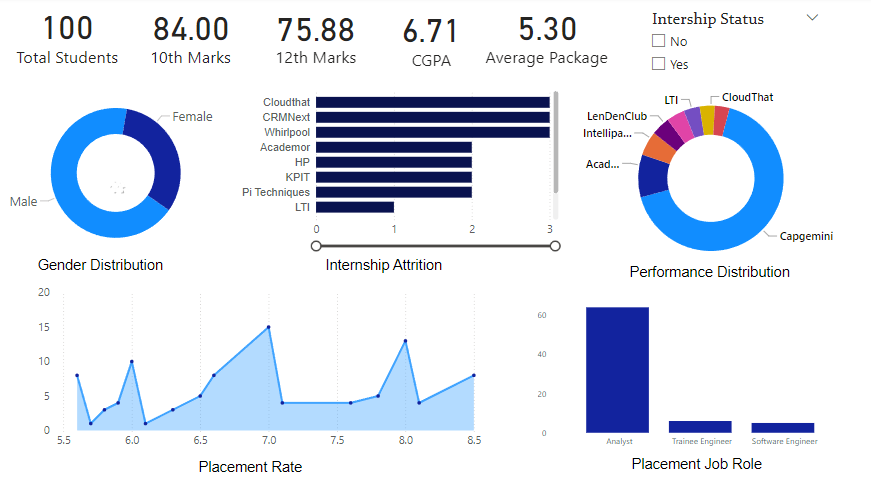

The page's visual inventory and layout, read from the dashboard file:
{"tool":"powerbi","page":{"name":"Page 2","canvas":[1280,720],"ordinal":1},"visuals":[{"type":"card","fields":{"Values":["Avg(cleaned_dataset_2019_format.10th )"]},"box":[189.5,4.9,182.1,72],"z":0,"group":"g1"},{"type":"donutChart","fields":{"Category":["cleaned_dataset_2019_format.Gender"],"Y":["Sum(cleaned_dataset_2019_format.Package_Selected(In LPA ))"]},"box":[4.5,113.4,332.8,286.6],"z":1000},{"type":"card","fields":{"Values":["Avg(cleaned_dataset_2019_format.12th)"]},"box":[371.6,5.9,183.6,72],"z":2000,"group":"g1"},{"type":"donutChart","fields":{"Category":["cleaned_dataset_2019_format.Company_Name","cleaned_dataset_2019_format.Industry"],"Y":["Sum(cleaned_dataset_2019_format.Package_Selected(In LPA ))"]},"box":[846.7,110,388.9,311.1],"z":2000},{"type":"areaChart","fields":{"Category":["cleaned_dataset_2019_format.CGPA","cleaned_dataset_2019_format.Industry"],"Y":["CountNonNull(cleaned_dataset_2019_format.Job_Role)"]},"box":[50.7,414.9,659.7,253.7],"z":3000},{"type":"card","fields":{"Values":["Avg(cleaned_dataset_2019_format.CGPA)"]},"box":[540,7.4,184.4,71.4],"z":4000,"group":"g1"},{"type":"image","box":[155.2,255.2,40.3,46.3],"z":5000},{"type":"slicer","fields":{"Values":["cleaned_dataset_2019_format.Intership_Status"]},"box":[942.9,11.4,270,110],"z":6000},{"type":"clusteredColumnChart","fields":{"Category":["cleaned_dataset_2019_format.Job_Role"],"Y":["CountNonNull(cleaned_dataset_2019_format.Company_Selected)"]},"box":[783.6,422.4,468.7,244.8],"z":7000},{"type":"textbox","box":[920.9,667.2,240.3,47.8],"z":8000},{"type":"card","fields":{"Values":["CountNonNull(cleaned_dataset_2019_format.Student_Roll_No)"]},"box":[4.5,0,187.4,77.6],"z":9000,"group":"g1"},{"type":"textbox","box":[473.1,376.1,219.4,38.8],"z":9000},{"type":"textbox","box":[286.6,671.6,198.5,47.8],"z":10000},{"type":"barChart","fields":{"Category":["cleaned_dataset_2019_format.Internship_Company"],"Y":["CountNonNull(cleaned_dataset_2019_format.Student_Roll_No)"]},"box":[341.4,124.3,482.9,251.4],"z":10500},{"type":"textbox","box":[917.1,385.7,282.9,47.1],"z":11000},{"type":"group","id":"g1","title":"Group 1","box":[2.3,0,899.2,116.4],"z":12000},{"type":"card","fields":{"Values":["Avg(cleaned_dataset_2019_format.Package_Selected(In LPA ))"]},"box":[702.3,4.9,199.2,72.6],"z":13000,"group":"g1"},{"type":"textbox","box":[50.7,376.1,240.3,47.8],"z":13000},{"type":"textbox","box":[2.3,65.7,194,50.7],"z":14000,"group":"g1"},{"type":"textbox","box":[195.9,65.7,168.7,47.8],"z":15000,"group":"g1"},{"type":"textbox","box":[380.7,66.3,163.8,43.8],"z":16000,"group":"g1"},{"type":"textbox","box":[550.3,70,165.2,46.3],"z":17000,"group":"g1"},{"type":"textbox","box":[701.9,65.7,198.5,50.7],"z":18000,"group":"g1"}]}

Visuals, with their boxes in screenshot pixels (x1, y1, x2, y2), scaled from the page's 1280x720 canvas onto the 871x488 screenshot:
card - Avg(cleaned_dataset_2019_format.10th ): Rect(129, 3, 253, 52)
donutChart - cleaned_dataset_2019_format.Gender x Sum(cleaned_dataset_2019_format.Package_Selected(In LPA )): Rect(3, 77, 230, 271)
card - Avg(cleaned_dataset_2019_format.12th): Rect(253, 4, 378, 53)
donutChart - cleaned_dataset_2019_format.Company_Name x cleaned_dataset_2019_format.Industry: Rect(576, 75, 841, 285)
areaChart - cleaned_dataset_2019_format.CGPA x cleaned_dataset_2019_format.Industry: Rect(34, 281, 483, 453)
card - Avg(cleaned_dataset_2019_format.CGPA): Rect(367, 5, 493, 53)
image: Rect(106, 173, 133, 204)
slicer - cleaned_dataset_2019_format.Intership_Status: Rect(642, 8, 825, 82)
clusteredColumnChart - cleaned_dataset_2019_format.Job_Role x CountNonNull(cleaned_dataset_2019_format.Company_Selected): Rect(533, 286, 852, 452)
textbox: Rect(627, 452, 790, 485)
card - CountNonNull(cleaned_dataset_2019_format.Student_Roll_No): Rect(3, 0, 131, 53)
textbox: Rect(322, 255, 471, 281)
textbox: Rect(195, 455, 330, 487)
barChart - cleaned_dataset_2019_format.Internship_Company x CountNonNull(cleaned_dataset_2019_format.Student_Roll_No): Rect(232, 84, 561, 255)
textbox: Rect(624, 261, 817, 293)
"Group 1" group: Rect(2, 0, 613, 79)
card - Avg(cleaned_dataset_2019_format.Package_Selected(In LPA )): Rect(478, 3, 613, 53)
textbox: Rect(34, 255, 198, 287)
textbox: Rect(2, 45, 134, 79)
textbox: Rect(133, 45, 248, 77)
textbox: Rect(259, 45, 371, 75)
textbox: Rect(374, 47, 487, 79)
textbox: Rect(478, 45, 613, 79)
